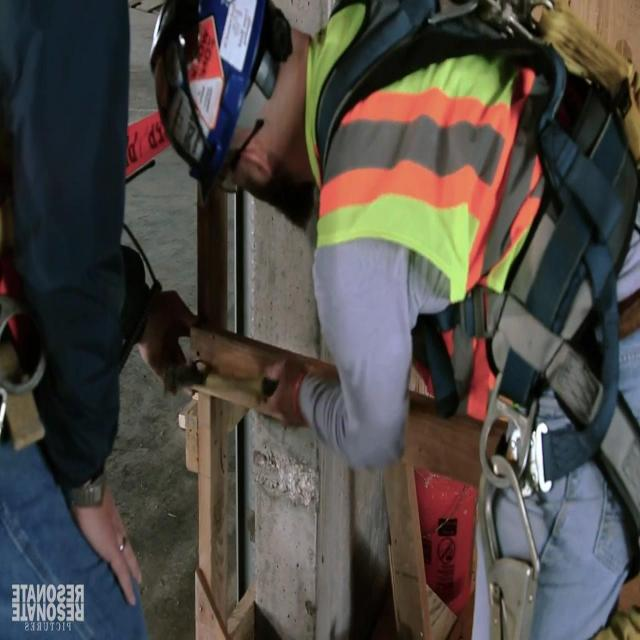Reflective-Jacket: (298, 10, 640, 429)
Safety-Helmet: (141, 1, 276, 202)
